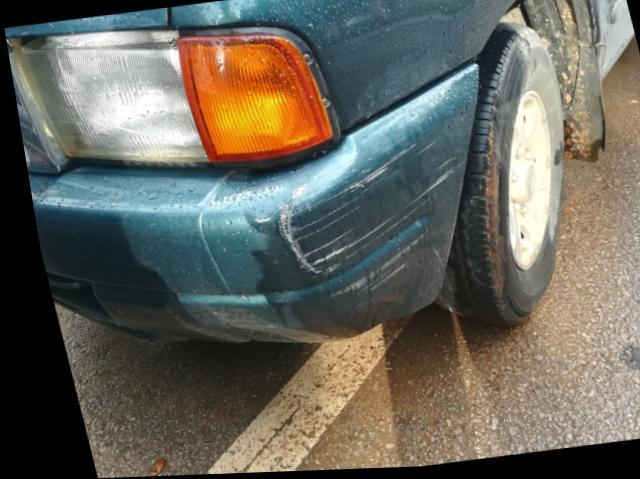rub: (271, 145, 447, 307)
